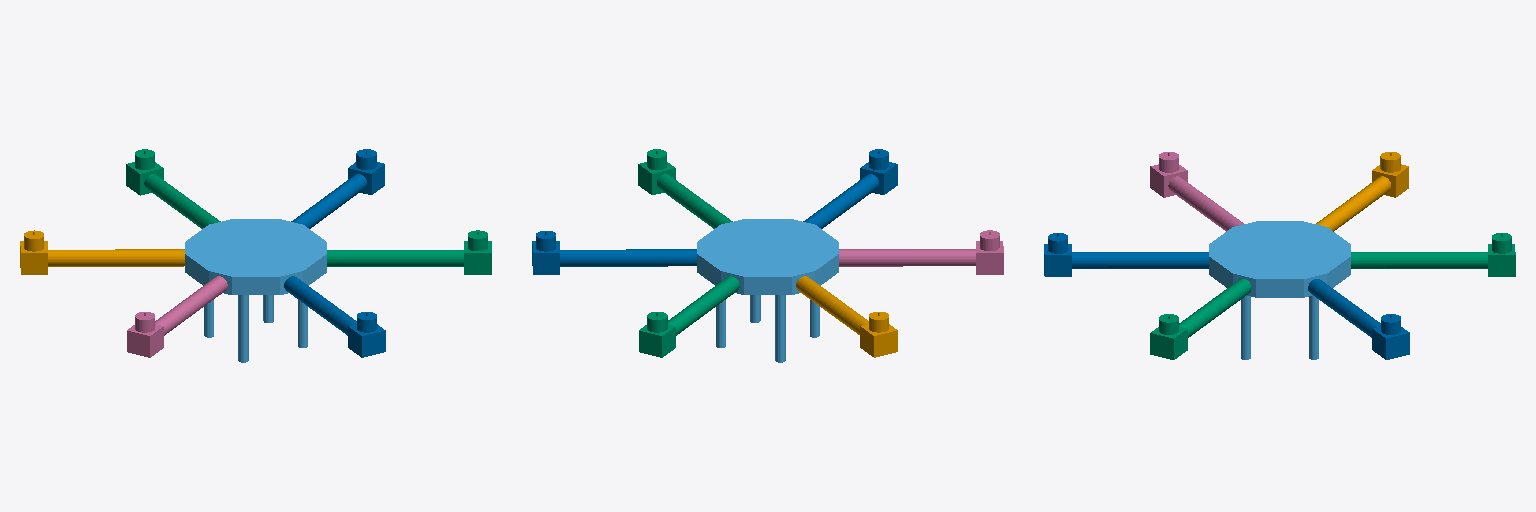
The robot description file, URDF, robot "reed_quad_x":
<?xml version="1.0" encoding="utf-8"?>
<!-- =================================================================================== -->
<!-- |    This document was autogenerated by xacro from tilt_hex.xacro                 | -->
<!-- |    EDITING THIS FILE BY HAND IS NOT RECOMMENDED                                 | -->
<!-- =================================================================================== -->
<robot name="reed_quad_x">
  <!-- Included URDF Files -->
  <link name="tilt_hex/base_link"/>
  <joint name="tilt_hex/base_joint" type="fixed">
    <origin rpy="0 0 0" xyz="0 0 0"/>
    <parent link="tilt_hex/base_link"/>
    <child link="tilt_hex/base_link_inertia"/>
  </joint>
  <link name="tilt_hex/base_link_inertia">
    <inertial>
      <mass value="1.5"/>
      <!-- [kg] -->
      <origin rpy="0 0 0" xyz="0 0 0"/>
      <inertia ixx="0.0347563" ixy="0.0" ixz="0.0" iyy="0.0458929" iyz="0.0" izz="0.0977"/>
    </inertial>
    <visual>
      <origin rpy="0 0 0" xyz="0 0 0"/>
      <geometry>
        <mesh filename="package://reed_gazebo/meshes/reed_quad_x/body-hex.STL" scale="1 1 1"/>
      </geometry>
    </visual>
    <collision>
      <origin rpy="0 0 0" xyz="0 0 0"/>
      <geometry>
        <box size="0.47 0.47 0.11"/>
        <!-- [m] [m] [m] -->
      </geometry>
    </collision>
  </link>
  <!-- attach multirotor_base_plugin to the base_link -->
  <gazebo>
    <plugin filename="librotors_gazebo_multirotor_base_plugin.so" name="multirotor_base_plugin">
      <robotNamespace>tilt_hex</robotNamespace>
      <linkName>tilt_hex/base_link</linkName>
      <rotorVelocitySlowdownSim>10</rotorVelocitySlowdownSim>
    </plugin>
  </gazebo>
  <!-- Rotor tilt_unit -->
  <joint name="tilt_hex/tilt_unit_0_revolutejoint" type="continuous">
    <origin rpy="0 0 -0.523333" xyz="0.09 -0.05196 0.135"/>
    <axis xyz="1 0 0"/>
    <parent link="tilt_hex/base_link"/>
    <child link="tilt_hex/tilt_unit_0"/>
  </joint>
  <link name="tilt_hex/tilt_unit_0">
    <inertial>
      <mass value="0.2"/>
      <!-- [kg] -->
      <inertia ixx="0.00034257" ixy="0" ixz="0" iyy="0.0013205" iyz="0" izz="0.0010037"/>
      <!-- [kg m^2] [kg m^2] [kg m^2] [kg m^2] [kg m^2] [kg m^2] -->
    </inertial>
    <visual>
      <geometry>
        <mesh filename="package://reed_gazebo/meshes/reed_quad_x/rotortilt.STL" scale="1 1 1"/>
      </geometry>
    </visual>
    <collision>
      <geometry>
        <box size="0.005 0.005 0.005"/>
        <!-- [m] -->
      </geometry>
    </collision>
  </link>
  <gazebo>
    <plugin filename="librotors_gazebo_motor_model.so" name="one_tilt_unit_model">
      <robotNamespace>tilt_hex</robotNamespace>
      <jointName>tilt_hex/tilt_unit_0_revolutejoint</jointName>
      <linkName>tilt_hex/tilt_unit_0</linkName>
      <turningDirection>ccw</turningDirection>
      <motorType>position</motorType>
      <commandSubTopic>/gazebo/command/motor_speed</commandSubTopic>
      <motorNumber>12</motorNumber>
      <motorSpeedPubTopic>/tilt_motor_0/velocity</motorSpeedPubTopic>
      <motorPositionPubTopic>/tilt_motor_0/position</motorPositionPubTopic>
      <joint_control_pid>
        <p>1.0</p>
        <i>0.0</i>
        <d>0.01</d>
        <iMax>1.0</iMax>
        <iMin>-1.0</iMin>
        <cmdMax>2.0</cmdMax>
        <cmdMin>-2.0</cmdMin>
      </joint_control_pid>
    </plugin>
  </gazebo>
  <gazebo reference="tilt_hex/tilt_unit_0">
    <material>Gazebo/White</material>
  </gazebo>
  <!-- Rotor -->
  <joint name="rotor_0_joint" type="continuous">
    <origin rpy="0 0 0" xyz="0.22 0 0.04"/>
    <axis xyz="0 0 1"/>
    <parent link="tilt_hex/tilt_unit_0"/>
    <child link="rotor_0"/>
  </joint>
  <link name="rotor_0">
    <inertial>
      <mass value="0.005"/>
      <!-- [kg] -->
      <inertia ixx="9.7499961e-07" ixy="0.0" ixz="0.0" iyy="4.1704149985e-05" iyz="0.0" izz="4.2604149625e-05"/>
    </inertial>
    <visual>
      <geometry>
        <mesh filename="package://rotors_description/meshes/propeller_ccw.dae" scale="0.1 0.1 0.1"/>
      </geometry>
    </visual>
    <collision>
      <geometry>
        <cylinder length="0.005" radius="0.1"/>
        <!-- [m] -->
      </geometry>
    </collision>
  </link>
  <gazebo>
    <plugin filename="librotors_gazebo_motor_model.so" name="one_motor_model">
      <robotNamespace>tilt_hex</robotNamespace>
      <jointName>rotor_0_joint</jointName>
      <linkName>rotor_0</linkName>
      <turningDirection>ccw</turningDirection>
      <timeConstantUp>0.0125</timeConstantUp>
      <timeConstantDown>0.025</timeConstantDown>
      <maxRotVelocity>838</maxRotVelocity>
      <motorConstant>8.54858e-06</motorConstant>
      <momentConstant>0.016</momentConstant>
      <commandSubTopic>/gazebo/command/motor_speed</commandSubTopic>
      <motorNumber>0</motorNumber>
      <rotorDragCoefficient>8.06428e-05</rotorDragCoefficient>
      <rollingMomentCoefficient>1e-06</rollingMomentCoefficient>
      <motorSpeedPubTopic>/motor_speed/0</motorSpeedPubTopic>
      <rotorVelocitySlowdownSim>10</rotorVelocitySlowdownSim>
    </plugin>
  </gazebo>
  <gazebo reference="rotor_0">
    <material>Gazebo/Blue</material>
  </gazebo>
  <!-- Rotor tilt_unit -->
  <joint name="tilt_hex/tilt_unit_1_revolutejoint" type="continuous">
    <origin rpy="0 0 -1.569999" xyz="0 -0.10392 0.135"/>
    <axis xyz="1 0 0"/>
    <parent link="tilt_hex/base_link"/>
    <child link="tilt_hex/tilt_unit_1"/>
  </joint>
  <link name="tilt_hex/tilt_unit_1">
    <inertial>
      <mass value="0.2"/>
      <!-- [kg] -->
      <inertia ixx="0.00034257" ixy="0" ixz="0" iyy="0.0013205" iyz="0" izz="0.0010037"/>
      <!-- [kg m^2] [kg m^2] [kg m^2] [kg m^2] [kg m^2] [kg m^2] -->
    </inertial>
    <visual>
      <geometry>
        <mesh filename="package://reed_gazebo/meshes/reed_quad_x/rotortilt.STL" scale="1 1 1"/>
      </geometry>
    </visual>
    <collision>
      <geometry>
        <box size="0.005 0.005 0.005"/>
        <!-- [m] -->
      </geometry>
    </collision>
  </link>
  <gazebo>
    <plugin filename="librotors_gazebo_motor_model.so" name="two_tilt_unit_model">
      <robotNamespace>tilt_hex</robotNamespace>
      <jointName>tilt_hex/tilt_unit_1_revolutejoint</jointName>
      <linkName>tilt_hex/tilt_unit_1</linkName>
      <turningDirection>ccw</turningDirection>
      <motorType>position</motorType>
      <commandSubTopic>/gazebo/command/motor_speed</commandSubTopic>
      <motorNumber>13</motorNumber>
      <motorSpeedPubTopic>/tilt_motor_1/velocity</motorSpeedPubTopic>
      <motorPositionPubTopic>/tilt_motor_1/position</motorPositionPubTopic>
      <joint_control_pid>
        <p>1.0</p>
        <i>0.0</i>
        <d>0.01</d>
        <iMax>1.0</iMax>
        <iMin>-1.0</iMin>
        <cmdMax>2.0</cmdMax>
        <cmdMin>-2.0</cmdMin>
      </joint_control_pid>
    </plugin>
  </gazebo>
  <gazebo reference="tilt_hex/tilt_unit_1">
    <material>Gazebo/White</material>
  </gazebo>
  <!-- Rotor -->
  <joint name="rotor_1_joint" type="continuous">
    <origin rpy="0 0 0" xyz="0.22 0 0.04"/>
    <axis xyz="0 0 1"/>
    <parent link="tilt_hex/tilt_unit_1"/>
    <child link="rotor_1"/>
  </joint>
  <link name="rotor_1">
    <inertial>
      <mass value="0.005"/>
      <!-- [kg] -->
      <inertia ixx="9.7499961e-07" ixy="0.0" ixz="0.0" iyy="4.1704149985e-05" iyz="0.0" izz="4.2604149625e-05"/>
    </inertial>
    <visual>
      <geometry>
        <mesh filename="package://rotors_description/meshes/propeller_cw.dae" scale="0.1 0.1 0.1"/>
      </geometry>
    </visual>
    <collision>
      <geometry>
        <cylinder length="0.005" radius="0.1"/>
        <!-- [m] -->
      </geometry>
    </collision>
  </link>
  <gazebo>
    <plugin filename="librotors_gazebo_motor_model.so" name="two_motor_model">
      <robotNamespace>tilt_hex</robotNamespace>
      <jointName>rotor_1_joint</jointName>
      <linkName>rotor_1</linkName>
      <turningDirection>cw</turningDirection>
      <timeConstantUp>0.0125</timeConstantUp>
      <timeConstantDown>0.025</timeConstantDown>
      <maxRotVelocity>838</maxRotVelocity>
      <motorConstant>8.54858e-06</motorConstant>
      <momentConstant>0.016</momentConstant>
      <commandSubTopic>/gazebo/command/motor_speed</commandSubTopic>
      <motorNumber>1</motorNumber>
      <rotorDragCoefficient>8.06428e-05</rotorDragCoefficient>
      <rollingMomentCoefficient>1e-06</rollingMomentCoefficient>
      <motorSpeedPubTopic>/motor_speed/1</motorSpeedPubTopic>
      <rotorVelocitySlowdownSim>10</rotorVelocitySlowdownSim>
    </plugin>
  </gazebo>
  <gazebo reference="rotor_1">
    <material>Gazebo/Red</material>
  </gazebo>
  <!-- Rotor tilt_unit -->
  <joint name="tilt_hex/tilt_unit_2_revolutejoint" type="continuous">
    <origin rpy="0 0 -2.616665" xyz="-0.09 -0.05196 0.135"/>
    <axis xyz="1 0 0"/>
    <parent link="tilt_hex/base_link"/>
    <child link="tilt_hex/tilt_unit_2"/>
  </joint>
  <link name="tilt_hex/tilt_unit_2">
    <inertial>
      <mass value="0.2"/>
      <!-- [kg] -->
      <inertia ixx="0.00034257" ixy="0" ixz="0" iyy="0.0013205" iyz="0" izz="0.0010037"/>
      <!-- [kg m^2] [kg m^2] [kg m^2] [kg m^2] [kg m^2] [kg m^2] -->
    </inertial>
    <visual>
      <geometry>
        <mesh filename="package://reed_gazebo/meshes/reed_quad_x/rotortilt.STL" scale="1 1 1"/>
      </geometry>
    </visual>
    <collision>
      <geometry>
        <box size="0.005 0.005 0.005"/>
        <!-- [m] -->
      </geometry>
    </collision>
  </link>
  <gazebo>
    <plugin filename="librotors_gazebo_motor_model.so" name="three_tilt_unit_model">
      <robotNamespace>tilt_hex</robotNamespace>
      <jointName>tilt_hex/tilt_unit_2_revolutejoint</jointName>
      <linkName>tilt_hex/tilt_unit_2</linkName>
      <turningDirection>ccw</turningDirection>
      <motorType>position</motorType>
      <commandSubTopic>/gazebo/command/motor_speed</commandSubTopic>
      <motorNumber>14</motorNumber>
      <motorSpeedPubTopic>/tilt_motor_2/velocity</motorSpeedPubTopic>
      <motorPositionPubTopic>/tilt_motor_2/position</motorPositionPubTopic>
      <joint_control_pid>
        <p>1.0</p>
        <i>0.0</i>
        <d>0.01</d>
        <iMax>1.0</iMax>
        <iMin>-1.0</iMin>
        <cmdMax>2.0</cmdMax>
        <cmdMin>-2.0</cmdMin>
      </joint_control_pid>
    </plugin>
  </gazebo>
  <gazebo reference="tilt_hex/tilt_unit_2">
    <material>Gazebo/White</material>
  </gazebo>
  <!-- Rotor -->
  <joint name="rotor_2_joint" type="continuous">
    <origin rpy="0 0 0" xyz="0.22 0 0.04"/>
    <axis xyz="0 0 1"/>
    <parent link="tilt_hex/tilt_unit_2"/>
    <child link="rotor_2"/>
  </joint>
  <link name="rotor_2">
    <inertial>
      <mass value="0.005"/>
      <!-- [kg] -->
      <inertia ixx="9.7499961e-07" ixy="0.0" ixz="0.0" iyy="4.1704149985e-05" iyz="0.0" izz="4.2604149625e-05"/>
    </inertial>
    <visual>
      <geometry>
        <mesh filename="package://rotors_description/meshes/propeller_ccw.dae" scale="0.1 0.1 0.1"/>
      </geometry>
    </visual>
    <collision>
      <geometry>
        <cylinder length="0.005" radius="0.1"/>
        <!-- [m] -->
      </geometry>
    </collision>
  </link>
  <gazebo>
    <plugin filename="librotors_gazebo_motor_model.so" name="three_motor_model">
      <robotNamespace>tilt_hex</robotNamespace>
      <jointName>rotor_2_joint</jointName>
      <linkName>rotor_2</linkName>
      <turningDirection>ccw</turningDirection>
      <timeConstantUp>0.0125</timeConstantUp>
      <timeConstantDown>0.025</timeConstantDown>
      <maxRotVelocity>838</maxRotVelocity>
      <motorConstant>8.54858e-06</motorConstant>
      <momentConstant>0.016</momentConstant>
      <commandSubTopic>/gazebo/command/motor_speed</commandSubTopic>
      <motorNumber>2</motorNumber>
      <rotorDragCoefficient>8.06428e-05</rotorDragCoefficient>
      <rollingMomentCoefficient>1e-06</rollingMomentCoefficient>
      <motorSpeedPubTopic>/motor_speed/2</motorSpeedPubTopic>
      <rotorVelocitySlowdownSim>10</rotorVelocitySlowdownSim>
    </plugin>
  </gazebo>
  <gazebo reference="rotor_2">
    <material>Gazebo/Blue</material>
  </gazebo>
  <!-- Rotor tilt_unit -->
  <joint name="tilt_hex/tilt_unit_3_revolutejoint" type="continuous">
    <origin rpy="0 0 -3.663331" xyz="-0.09 0.05196 0.135"/>
    <axis xyz="1 0 0"/>
    <parent link="tilt_hex/base_link"/>
    <child link="tilt_hex/tilt_unit_3"/>
  </joint>
  <link name="tilt_hex/tilt_unit_3">
    <inertial>
      <mass value="0.2"/>
      <!-- [kg] -->
      <inertia ixx="0.00034257" ixy="0" ixz="0" iyy="0.0013205" iyz="0" izz="0.0010037"/>
      <!-- [kg m^2] [kg m^2] [kg m^2] [kg m^2] [kg m^2] [kg m^2] -->
    </inertial>
    <visual>
      <geometry>
        <mesh filename="package://reed_gazebo/meshes/reed_quad_x/rotortilt.STL" scale="1 1 1"/>
      </geometry>
    </visual>
    <collision>
      <geometry>
        <box size="0.005 0.005 0.005"/>
        <!-- [m] -->
      </geometry>
    </collision>
  </link>
  <gazebo>
    <plugin filename="librotors_gazebo_motor_model.so" name="four_tilt_unit_model">
      <robotNamespace>tilt_hex</robotNamespace>
      <jointName>tilt_hex/tilt_unit_3_revolutejoint</jointName>
      <linkName>tilt_hex/tilt_unit_3</linkName>
      <turningDirection>ccw</turningDirection>
      <motorType>position</motorType>
      <commandSubTopic>/gazebo/command/motor_speed</commandSubTopic>
      <motorNumber>15</motorNumber>
      <motorSpeedPubTopic>/tilt_motor_3/velocity</motorSpeedPubTopic>
      <motorPositionPubTopic>/tilt_motor_3/position</motorPositionPubTopic>
      <joint_control_pid>
        <p>1.0</p>
        <i>0.0</i>
        <d>0.01</d>
        <iMax>1.0</iMax>
        <iMin>-1.0</iMin>
        <cmdMax>2.0</cmdMax>
        <cmdMin>-2.0</cmdMin>
      </joint_control_pid>
    </plugin>
  </gazebo>
  <gazebo reference="tilt_hex/tilt_unit_3">
    <material>Gazebo/White</material>
  </gazebo>
  <!-- Rotor -->
  <joint name="rotor_3_joint" type="continuous">
    <origin rpy="0 0 0" xyz="0.22 0 0.04"/>
    <axis xyz="0 0 1"/>
    <parent link="tilt_hex/tilt_unit_3"/>
    <child link="rotor_3"/>
  </joint>
  <link name="rotor_3">
    <inertial>
      <mass value="0.005"/>
      <!-- [kg] -->
      <inertia ixx="9.7499961e-07" ixy="0.0" ixz="0.0" iyy="4.1704149985e-05" iyz="0.0" izz="4.2604149625e-05"/>
    </inertial>
    <visual>
      <geometry>
        <mesh filename="package://rotors_description/meshes/propeller_cw.dae" scale="0.1 0.1 0.1"/>
      </geometry>
    </visual>
    <collision>
      <geometry>
        <cylinder length="0.005" radius="0.1"/>
        <!-- [m] -->
      </geometry>
    </collision>
  </link>
  <gazebo>
    <plugin filename="librotors_gazebo_motor_model.so" name="four_motor_model">
      <robotNamespace>tilt_hex</robotNamespace>
      <jointName>rotor_3_joint</jointName>
      <linkName>rotor_3</linkName>
      <turningDirection>cw</turningDirection>
      <timeConstantUp>0.0125</timeConstantUp>
      <timeConstantDown>0.025</timeConstantDown>
      <maxRotVelocity>838</maxRotVelocity>
      <motorConstant>8.54858e-06</motorConstant>
      <momentConstant>0.016</momentConstant>
      <commandSubTopic>/gazebo/command/motor_speed</commandSubTopic>
      <motorNumber>3</motorNumber>
      <rotorDragCoefficient>8.06428e-05</rotorDragCoefficient>
      <rollingMomentCoefficient>1e-06</rollingMomentCoefficient>
      <motorSpeedPubTopic>/motor_speed/3</motorSpeedPubTopic>
      <rotorVelocitySlowdownSim>10</rotorVelocitySlowdownSim>
    </plugin>
  </gazebo>
  <gazebo reference="rotor_3">
    <material>Gazebo/Red</material>
  </gazebo>
  <!-- Rotor tilt_unit -->
  <joint name="tilt_hex/tilt_unit_4_revolutejoint" type="continuous">
    <origin rpy="0 0 -4.709991" xyz="0 0.10392 0.135"/>
    <axis xyz="1 0 0"/>
    <parent link="tilt_hex/base_link"/>
    <child link="tilt_hex/tilt_unit_4"/>
  </joint>
  <link name="tilt_hex/tilt_unit_4">
    <inertial>
      <mass value="0.2"/>
      <!-- [kg] -->
      <inertia ixx="0.00034257" ixy="0" ixz="0" iyy="0.0013205" iyz="0" izz="0.0010037"/>
      <!-- [kg m^2] [kg m^2] [kg m^2] [kg m^2] [kg m^2] [kg m^2] -->
    </inertial>
    <visual>
      <geometry>
        <mesh filename="package://reed_gazebo/meshes/reed_quad_x/rotortilt.STL" scale="1 1 1"/>
      </geometry>
    </visual>
    <collision>
      <geometry>
        <box size="0.005 0.005 0.005"/>
        <!-- [m] -->
      </geometry>
    </collision>
  </link>
  <gazebo>
    <plugin filename="librotors_gazebo_motor_model.so" name="five_tilt_unit_model">
      <robotNamespace>tilt_hex</robotNamespace>
      <jointName>tilt_hex/tilt_unit_4_revolutejoint</jointName>
      <linkName>tilt_hex/tilt_unit_4</linkName>
      <turningDirection>ccw</turningDirection>
      <motorType>position</motorType>
      <commandSubTopic>/gazebo/command/motor_speed</commandSubTopic>
      <motorNumber>16</motorNumber>
      <motorSpeedPubTopic>/tilt_motor_4/velocity</motorSpeedPubTopic>
      <motorPositionPubTopic>/tilt_motor_4/position</motorPositionPubTopic>
      <joint_control_pid>
        <p>1.0</p>
        <i>0.0</i>
        <d>0.01</d>
        <iMax>1.0</iMax>
        <iMin>-1.0</iMin>
        <cmdMax>2.0</cmdMax>
        <cmdMin>-2.0</cmdMin>
      </joint_control_pid>
    </plugin>
  </gazebo>
  <gazebo reference="tilt_hex/tilt_unit_4">
    <material>Gazebo/White</material>
  </gazebo>
  <!-- Rotor -->
  <joint name="rotor_4_joint" type="continuous">
    <origin rpy="0 0 0" xyz="0.22 0 0.04"/>
    <axis xyz="0 0 1"/>
    <parent link="tilt_hex/tilt_unit_4"/>
    <child link="rotor_4"/>
  </joint>
  <link name="rotor_4">
    <inertial>
      <mass value="0.005"/>
      <!-- [kg] -->
      <inertia ixx="9.7499961e-07" ixy="0.0" ixz="0.0" iyy="4.1704149985e-05" iyz="0.0" izz="4.2604149625e-05"/>
    </inertial>
    <visual>
      <geometry>
        <mesh filename="package://rotors_description/meshes/propeller_ccw.dae" scale="0.1 0.1 0.1"/>
      </geometry>
    </visual>
    <collision>
      <geometry>
        <cylinder length="0.005" radius="0.1"/>
        <!-- [m] -->
      </geometry>
    </collision>
  </link>
  <gazebo>
    <plugin filename="librotors_gazebo_motor_model.so" name="five_motor_model">
      <robotNamespace>tilt_hex</robotNamespace>
      <jointName>rotor_4_joint</jointName>
      <linkName>rotor_4</linkName>
      <turningDirection>ccw</turningDirection>
      <timeConstantUp>0.0125</timeConstantUp>
      <timeConstantDown>0.025</timeConstantDown>
      <maxRotVelocity>838</maxRotVelocity>
      <motorConstant>8.54858e-06</motorConstant>
      <momentConstant>0.016</momentConstant>
      <commandSubTopic>/gazebo/command/motor_speed</commandSubTopic>
      <motorNumber>4</motorNumber>
      <rotorDragCoefficient>8.06428e-05</rotorDragCoefficient>
      <rollingMomentCoefficient>1e-06</rollingMomentCoefficient>
      <motorSpeedPubTopic>/motor_speed/4</motorSpeedPubTopic>
      <rotorVelocitySlowdownSim>10</rotorVelocitySlowdownSim>
    </plugin>
  </gazebo>
  <gazebo reference="rotor_4">
    <material>Gazebo/Blue</material>
  </gazebo>
  <!-- Rotor tilt_unit -->
  <joint name="tilt_hex/tilt_unit_5_revolutejoint" type="continuous">
    <origin rpy="0 0 -5.75663" xyz="0.09 0.05196 0.135"/>
    <axis xyz="1 0 0"/>
    <parent link="tilt_hex/base_link"/>
    <child link="tilt_hex/tilt_unit_5"/>
  </joint>
  <link name="tilt_hex/tilt_unit_5">
    <inertial>
      <mass value="0.2"/>
      <!-- [kg] -->
      <inertia ixx="0.00034257" ixy="0" ixz="0" iyy="0.0013205" iyz="0" izz="0.0010037"/>
      <!-- [kg m^2] [kg m^2] [kg m^2] [kg m^2] [kg m^2] [kg m^2] -->
    </inertial>
    <visual>
      <geometry>
        <mesh filename="package://reed_gazebo/meshes/reed_quad_x/rotortilt.STL" scale="1 1 1"/>
      </geometry>
    </visual>
    <collision>
      <geometry>
        <box size="0.005 0.005 0.005"/>
        <!-- [m] -->
      </geometry>
    </collision>
  </link>
  <gazebo>
    <plugin filename="librotors_gazebo_motor_model.so" name="six_tilt_unit_model">
      <robotNamespace>tilt_hex</robotNamespace>
      <jointName>tilt_hex/tilt_unit_5_revolutejoint</jointName>
      <linkName>tilt_hex/tilt_unit_5</linkName>
      <turningDirection>ccw</turningDirection>
      <motorType>position</motorType>
      <commandSubTopic>/gazebo/command/motor_speed</commandSubTopic>
      <motorNumber>17</motorNumber>
      <motorSpeedPubTopic>/tilt_motor_5/velocity</motorSpeedPubTopic>
      <motorPositionPubTopic>/tilt_motor_5/position</motorPositionPubTopic>
      <joint_control_pid>
        <p>1.0</p>
        <i>0.0</i>
        <d>0.01</d>
        <iMax>1.0</iMax>
        <iMin>-1.0</iMin>
        <cmdMax>2.0</cmdMax>
        <cmdMin>-2.0</cmdMin>
      </joint_control_pid>
    </plugin>
  </gazebo>
  <gazebo reference="tilt_hex/tilt_unit_5">
    <material>Gazebo/White</material>
  </gazebo>
  <!-- Rotor -->
  <joint name="rotor_5_joint" type="continuous">
    <origin rpy="0 0 0" xyz="0.22 0 0.04"/>
    <axis xyz="0 0 1"/>
    <parent link="tilt_hex/tilt_unit_5"/>
    <child link="rotor_5"/>
  </joint>
  <link name="rotor_5">
    <inertial>
      <mass value="0.005"/>
      <!-- [kg] -->
      <inertia ixx="9.7499961e-07" ixy="0.0" ixz="0.0" iyy="4.1704149985e-05" iyz="0.0" izz="4.2604149625e-05"/>
    </inertial>
    <visual>
      <geometry>
        <mesh filename="package://rotors_description/meshes/propeller_cw.dae" scale="0.1 0.1 0.1"/>
      </geometry>
    </visual>
    <collision>
      <geometry>
        <cylinder length="0.005" radius="0.1"/>
        <!-- [m] -->
      </geometry>
    </collision>
  </link>
  <gazebo>
    <plugin filename="librotors_gazebo_motor_model.so" name="six_motor_model">
      <robotNamespace>tilt_hex</robotNamespace>
      <jointName>rotor_5_joint</jointName>
      <linkName>rotor_5</linkName>
      <turningDirection>cw</turningDirection>
      <timeConstantUp>0.0125</timeConstantUp>
      <timeConstantDown>0.025</timeConstantDown>
      <maxRotVelocity>838</maxRotVelocity>
      <motorConstant>8.54858e-06</motorConstant>
      <momentConstant>0.016</momentConstant>
      <commandSubTopic>/gazebo/command/motor_speed</commandSubTopic>
      <motorNumber>5</motorNumber>
      <rotorDragCoefficient>8.06428e-05</rotorDragCoefficient>
      <rollingMomentCoefficient>1e-06</rollingMomentCoefficient>
      <motorSpeedPubTopic>/motor_speed/5</motorSpeedPubTopic>
      <rotorVelocitySlowdownSim>10</rotorVelocitySlowdownSim>
    </plugin>
  </gazebo>
  <gazebo reference="rotor_5">
    <material>Gazebo/Red</material>
  </gazebo>
</robot>

--- Facts derived from the render (not from the file) ---
The picture shows the robot from 3 angles, left to right: view 1: azimuth 30°, elevation 25°; view 2: azimuth 150°, elevation 25°; view 3: azimuth 270°, elevation 25°; orthographic projection.
Model reed_quad_x with 14 links and 13 joints (12 continuous, 1 fixed), rooted at tilt_hex/base_link, posed every joint at zero.
Visible links, largest first — view 1: tilt_hex/base_link_inertia, tilt_hex/tilt_unit_3, tilt_hex/tilt_unit_0, tilt_hex/tilt_unit_1, tilt_hex/tilt_unit_2, tilt_hex/tilt_unit_4, tilt_hex/tilt_unit_5; view 2: tilt_hex/base_link_inertia, tilt_hex/tilt_unit_2, tilt_hex/tilt_unit_5, tilt_hex/tilt_unit_3, tilt_hex/tilt_unit_4, tilt_hex/tilt_unit_0, tilt_hex/tilt_unit_1; view 3: tilt_hex/base_link_inertia, tilt_hex/tilt_unit_1, tilt_hex/tilt_unit_4, tilt_hex/tilt_unit_5, tilt_hex/tilt_unit_0, tilt_hex/tilt_unit_2, tilt_hex/tilt_unit_3.
Link boxes in pixels (x1=…): tilt_hex/base_link_inertia: x1=185, y1=219, x2=326, y2=362; tilt_hex/tilt_unit_3: x1=20, y1=230, x2=184, y2=274; tilt_hex/tilt_unit_0: x1=327, y1=230, x2=491, y2=274; tilt_hex/tilt_unit_1: x1=284, y1=276, x2=385, y2=357; tilt_hex/tilt_unit_2: x1=127, y1=276, x2=227, y2=357; tilt_hex/tilt_unit_4: x1=126, y1=149, x2=220, y2=228; tilt_hex/tilt_unit_5: x1=291, y1=149, x2=384, y2=228; tilt_hex/base_link_inertia: x1=697, y1=219, x2=838, y2=362; tilt_hex/tilt_unit_2: x1=839, y1=230, x2=1003, y2=274; tilt_hex/tilt_unit_5: x1=532, y1=231, x2=696, y2=274; tilt_hex/tilt_unit_3: x1=796, y1=276, x2=897, y2=357; tilt_hex/tilt_unit_4: x1=639, y1=276, x2=739, y2=357; tilt_hex/tilt_unit_0: x1=638, y1=149, x2=732, y2=228; tilt_hex/tilt_unit_1: x1=803, y1=149, x2=897, y2=228; tilt_hex/base_link_inertia: x1=1209, y1=221, x2=1350, y2=359; tilt_hex/tilt_unit_1: x1=1044, y1=233, x2=1208, y2=276; tilt_hex/tilt_unit_4: x1=1351, y1=233, x2=1515, y2=276; tilt_hex/tilt_unit_5: x1=1308, y1=279, x2=1409, y2=359; tilt_hex/tilt_unit_0: x1=1150, y1=279, x2=1251, y2=359; tilt_hex/tilt_unit_2: x1=1150, y1=152, x2=1243, y2=231; tilt_hex/tilt_unit_3: x1=1316, y1=152, x2=1408, y2=231.
Bounding box of the posed robot: 0.6158 × 0.6879 × 0.1762 m (x, y, z).
7 mesh visuals loaded from 4 distinct referenced files (2 binary STL); not drawn: 6 (reference not matched to a file when rendering).
